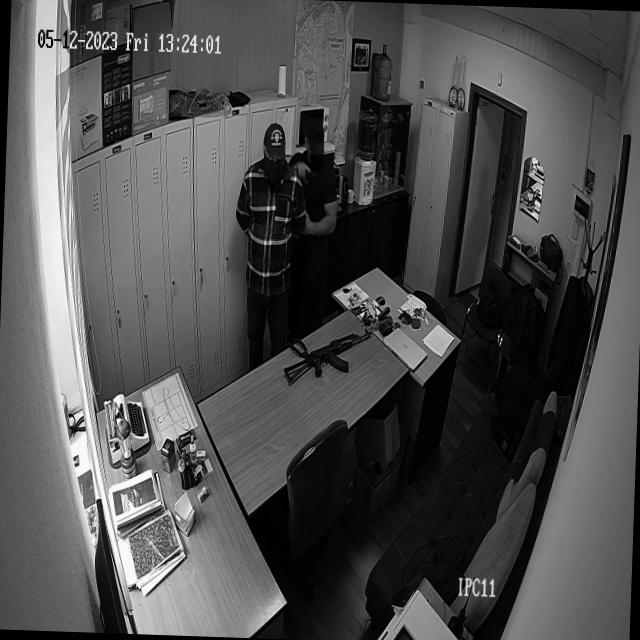gun: (283, 314, 377, 408), (306, 161, 328, 192)
person: (226, 116, 300, 373)
person with a gun: (290, 112, 339, 332)
